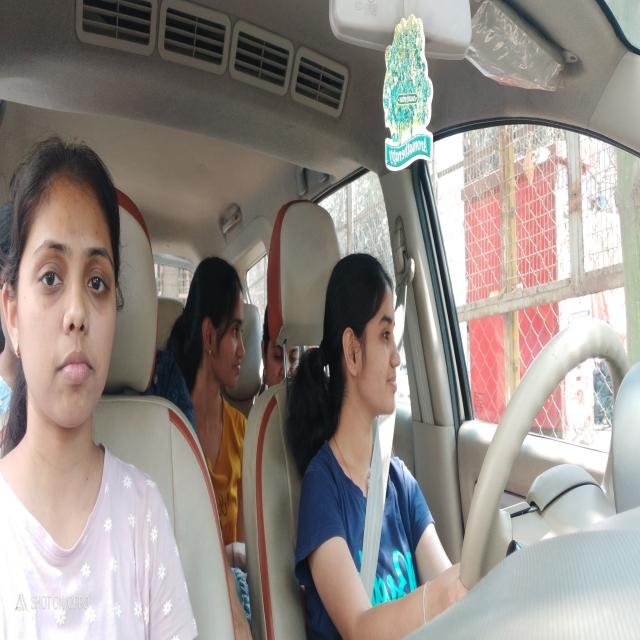LeftRight: (344, 243, 405, 431)
person: (2, 143, 121, 429), (194, 243, 248, 415), (264, 300, 304, 392)
